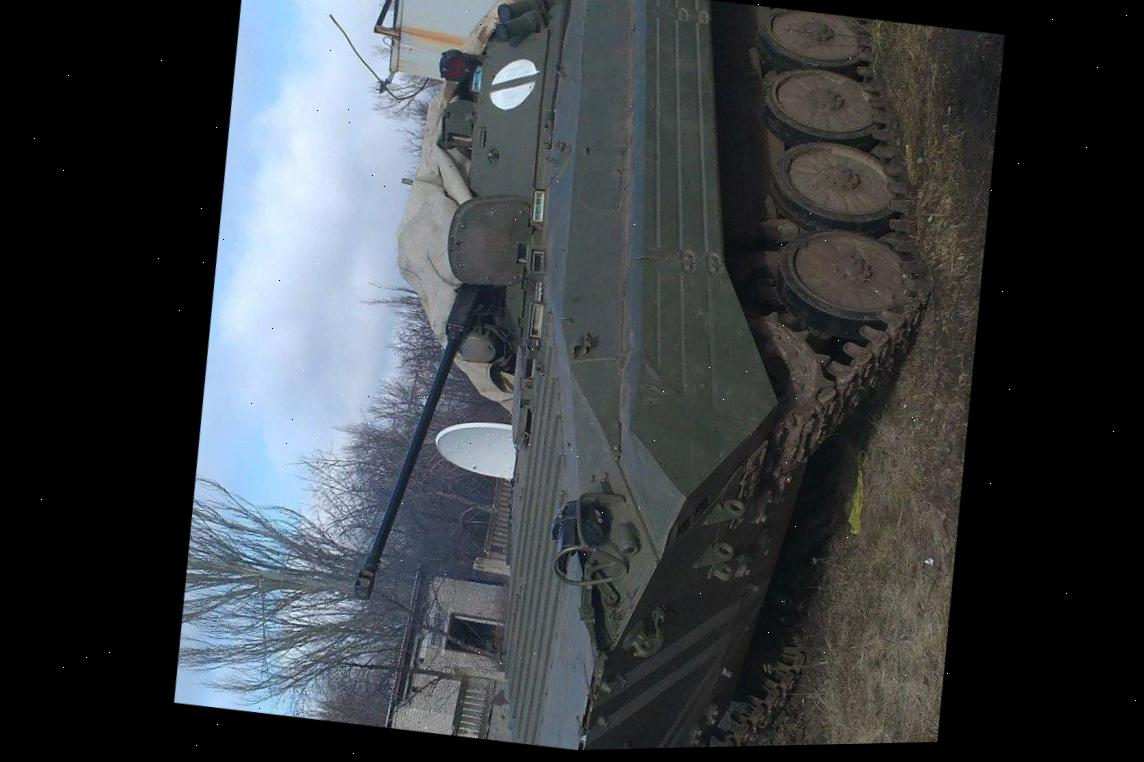tank: (306, 0, 990, 755)
